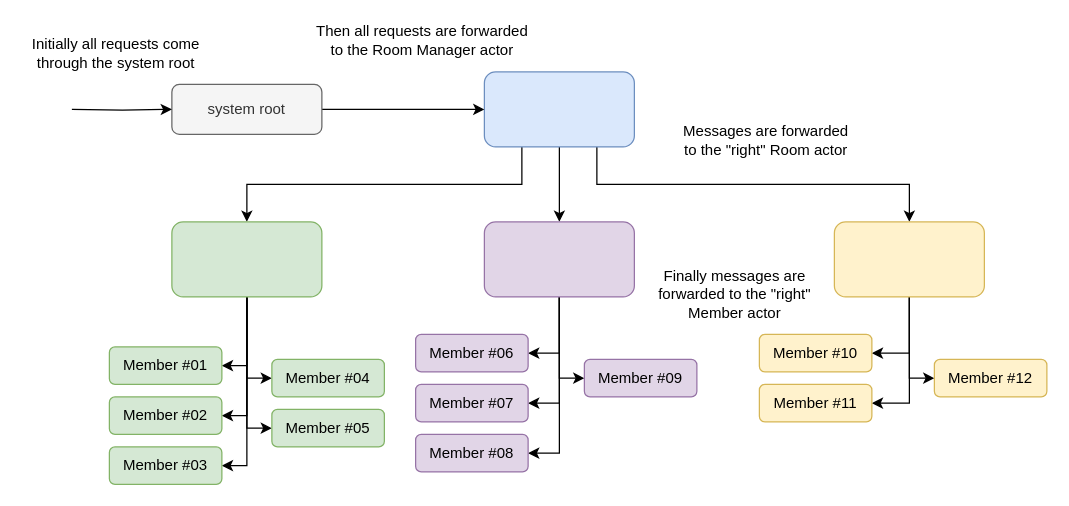
This 1069x506 diagram has some shape labels left out. The shapes that lost their labels are listed below. From the top down, each one's centre as x and y in pixels, then its label:
pixel 558 109: Room Manager
pixel 246 259: Room "AAA"
pixel 558 259: Room "BBB"
pixel 908 259: Room "CCC"
